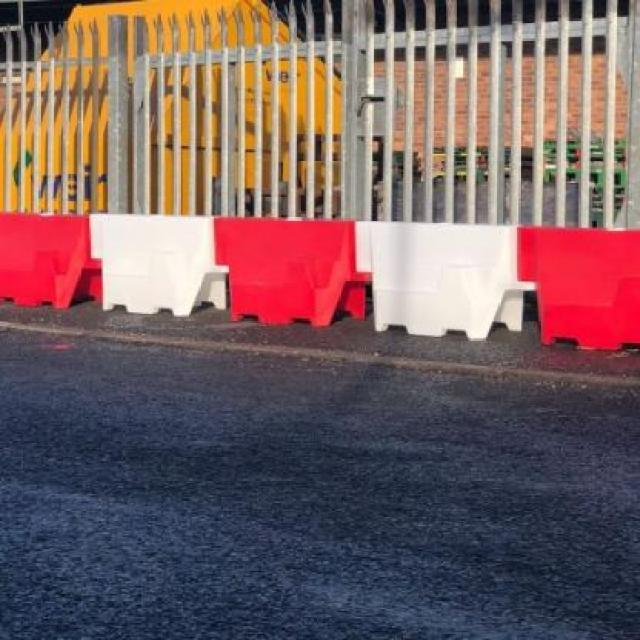fallen_object: (340, 193, 537, 338), (506, 202, 640, 372), (209, 199, 374, 332), (83, 193, 228, 331), (0, 195, 100, 322)
